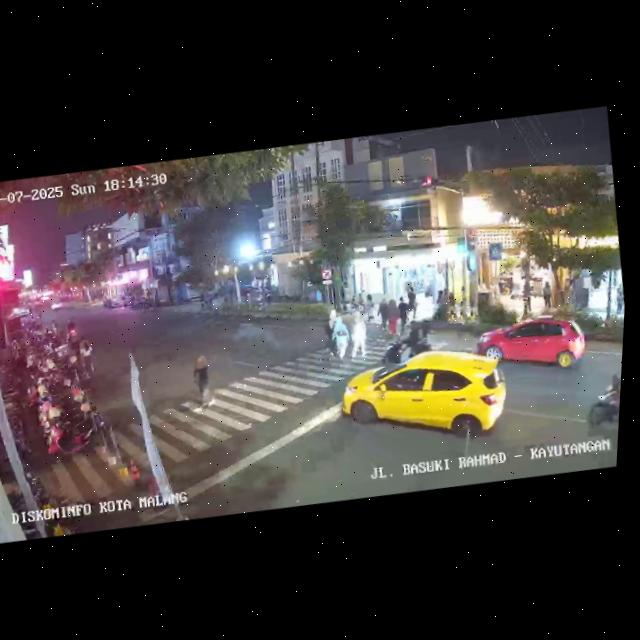car: (334, 340, 515, 460), (473, 308, 591, 380)
motorcycle: (579, 368, 621, 445), (379, 319, 437, 366), (62, 318, 86, 349)
person: (186, 350, 219, 409), (74, 334, 99, 382), (330, 314, 352, 360), (349, 315, 370, 361), (324, 308, 342, 356), (383, 298, 401, 335), (394, 296, 410, 329), (433, 289, 449, 322), (519, 283, 535, 315), (375, 298, 391, 330), (405, 286, 420, 320), (539, 278, 554, 310), (361, 292, 376, 324), (613, 285, 626, 316)
